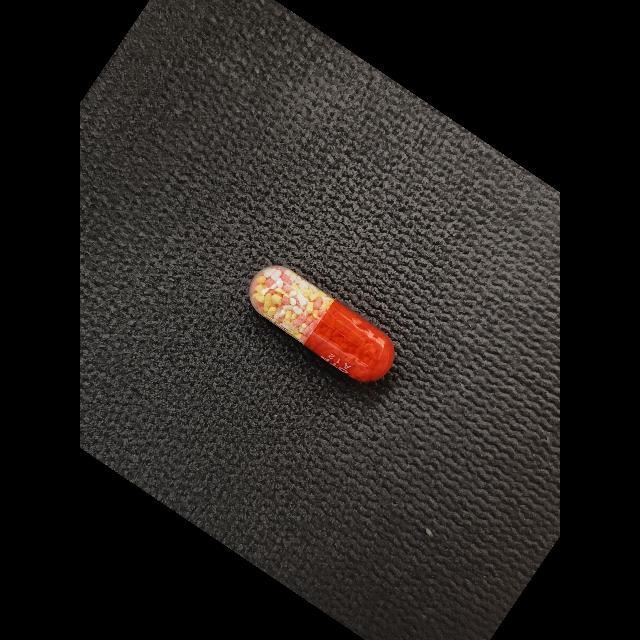Intact Capsule: (249, 265, 394, 382)
